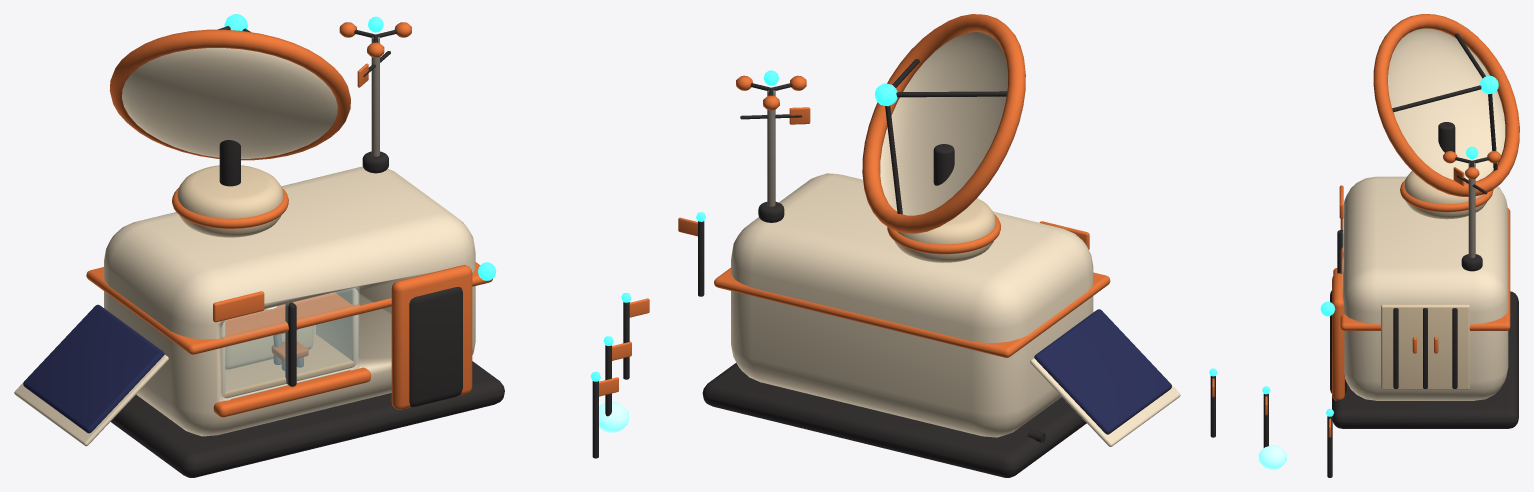
File: geolocator-1.glb
3 renders of one model, left to right at view 1: azimuth 30°, elevation 25°; view 2: azimuth 150°, elevation 25°; view 3: azimuth 270°, elevation 25°, orthographic. The views are drawn at different scales.
Parts seen in each view (by area): view 1: Cube.001, Sphere.005, Cube, Cube.016, Cube.023, Torus.001, Cube.020, Cube.002, Cylinder, Cube.019, Cube.011, Cube.017 (+9 smaller); view 2: Cube.001, Sphere.005, Cube, Torus.001, Cube.023, Cube.002, Cylinder, Cube.024, Torus, Cylinder.003, Cylinder.001, pipe.001 (+2 smaller); view 3: Cube.001, Sphere.005, Torus.001, Cube, Cube.003, Cube.019, Cylinder, Cube.002, Torus, Cylinder.003, Sphere.014, Cylinder.001 (+5 smaller).
Boxes of the visible parts, box(x1,y1,x2,y2) form: Cube.001: box(104, 166, 475, 436); Sphere.005: box(122, 48, 337, 158); Cube: box(110, 361, 504, 477); Cube.016: box(221, 287, 359, 401); Cube.023: box(23, 304, 164, 433); Torus.001: box(109, 29, 350, 160); Cube.020: box(409, 287, 462, 407); Cube.002: box(86, 262, 492, 354); Cylinder: box(177, 165, 283, 237); Cube.019: box(391, 265, 472, 409); Cube.011: box(223, 334, 356, 398); Cube.017: box(213, 367, 370, 417); Cube.001: box(731, 173, 1093, 437); Sphere.005: box(880, 32, 1007, 215); Cube: box(702, 363, 1086, 477); Torus.001: box(862, 14, 1025, 233); Cube.023: box(1034, 309, 1171, 434); Cube.002: box(714, 268, 1110, 357); Cylinder: box(894, 198, 995, 262); Cube.024: box(1030, 358, 1180, 446); Torus: box(887, 214, 1000, 254); Cylinder.003: box(767, 90, 775, 206); Cylinder.001: box(933, 144, 954, 185); pipe.001: box(896, 91, 1007, 97); Cube.001: box(1342, 176, 1508, 400); Sphere.005: box(1388, 28, 1505, 182); Torus.001: box(1373, 14, 1519, 196); Cube: box(1332, 291, 1518, 428); Cube.003: box(1381, 304, 1469, 389); Cube.019: box(1332, 273, 1344, 400); Cylinder: box(1404, 171, 1487, 219); Cube.002: box(1340, 208, 1510, 330); Torus: box(1400, 179, 1493, 212); Cylinder.003: box(1468, 162, 1475, 258); Sphere.014: box(1258, 445, 1286, 469); Cylinder.001: box(1438, 122, 1455, 152).
Bounding box in the file's own units: 2.34 × 1.71 × 1.47.
13 materials, 1 textured.
